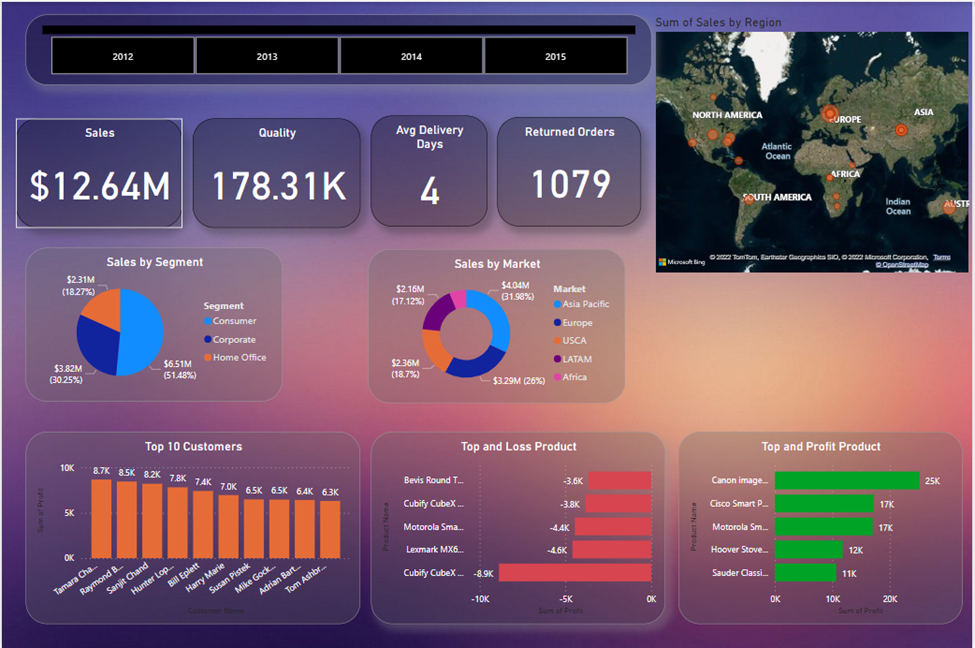

What the dashboard file says about the page in this screenshot:
{"tool":"powerbi","page":{"name":"Page 1","canvas":[1350,900],"ordinal":0},"visuals":[{"type":"card","title":"Sales","fields":{"Values":["Orders.Sales"]},"box":[20,161.8,231.7,151.8],"z":0},{"type":"card","title":"Quality","fields":{"Values":["Orders.Quantity"]},"box":[265.6,161.8,233.7,151.8],"z":1000},{"type":"card","title":"Avg Delivery Days","fields":{"Values":["Orders.Delivery days"]},"box":[513.2,157.8,161.8,153.8],"z":2000},{"type":"card","title":"Returned Orders","fields":{"Values":["Returns.Return Orders"]},"box":[689,159.8,199.7,151.8],"z":3000},{"type":"map","fields":{"Category":["Orders.Region"],"Size":["Orders.Sales"]},"box":[904.7,18,445.3,363.5],"z":4000},{"type":"clusteredBarChart","title":"Top and Profit Product","fields":{"Y":["Orders.Profit"],"Category":["Orders.Product Name"]},"box":[940.6,597.1,395.4,267.6],"z":5000},{"type":"clusteredBarChart","title":"Top and Loss Product","fields":{"Y":["Orders.Profit"],"Category":["Orders.Product Name"]},"box":[513.2,597.1,409.4,267.6],"z":6000},{"type":"slicer","fields":{"Values":["Orders.Year"]},"box":[33.9,18,870.7,97.9],"z":7000},{"type":"pieChart","fields":{"Category":["Orders.Segment"],"Y":["Orders.Sales"]},"box":[33.9,341.5,357.5,213.7],"z":8000},{"type":"donutChart","fields":{"Category":["Orders.Market"],"Y":["Orders.Sales"]},"box":[509.2,343.5,357.5,213.7],"z":9000},{"type":"clusteredColumnChart","title":"Top 10 Customers","fields":{"Category":["Orders.Customer Name"],"Y":["Orders.Profit"]},"box":[33.9,597.1,465.3,267.6],"z":10000}]}

Visuals, with their boxes in screenshot pixels (x1, y1, x2, y2), scaled from the page's 1350x900 canvas onto the 975x648 screenshot:
"Sales" card: (14, 116, 182, 226)
"Quality" card: (192, 116, 361, 226)
"Avg Delivery Days" card: (371, 114, 488, 224)
"Returned Orders" card: (498, 115, 642, 224)
map - Orders.Region x Orders.Sales: (653, 13, 974, 275)
"Top and Profit Product" clusteredBarChart: (679, 430, 965, 623)
"Top and Loss Product" clusteredBarChart: (371, 430, 666, 623)
slicer - Orders.Year: (24, 13, 653, 83)
pieChart - Orders.Segment x Orders.Sales: (24, 246, 283, 400)
donutChart - Orders.Market x Orders.Sales: (368, 247, 626, 401)
"Top 10 Customers" clusteredColumnChart: (24, 430, 361, 623)
